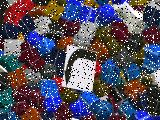Left: (62, 44, 98, 92)
